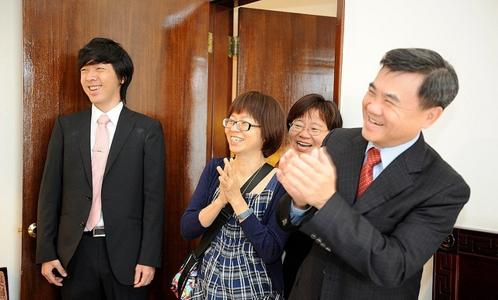person: (275, 49, 469, 300)
